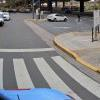crosswalks: (0, 56, 100, 99)
